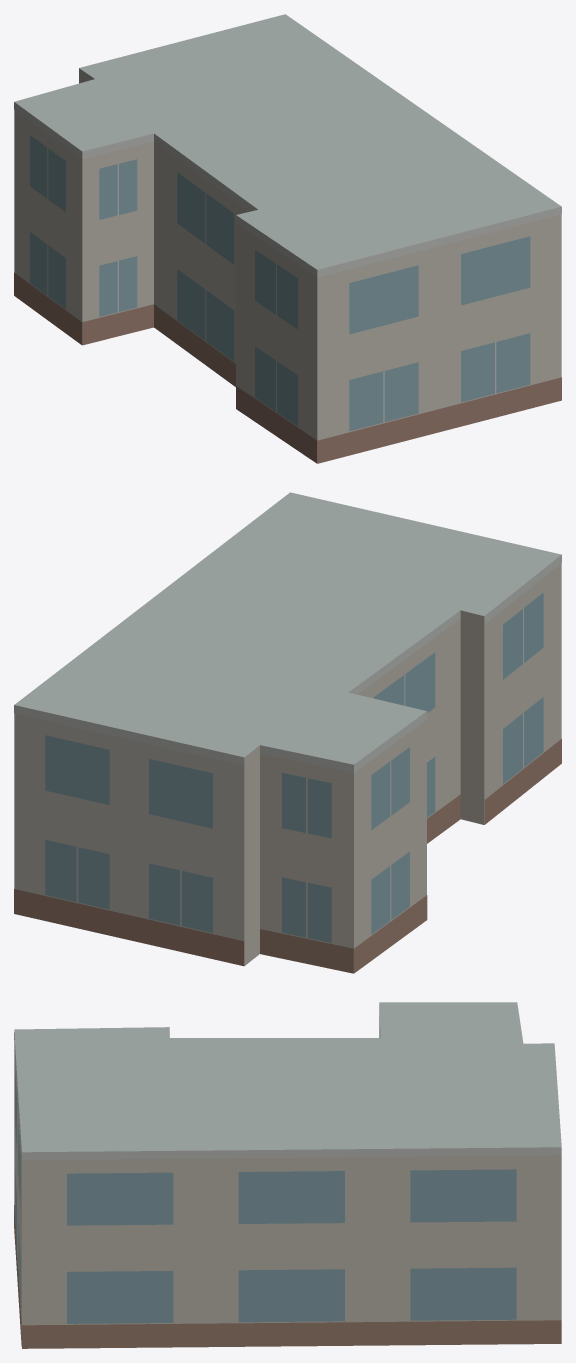
The model's file is survey-upis-32714874.glb.
3 renders of one model, top to bottom at view 1: azimuth 30°, elevation 25°; view 2: azimuth 150°, elevation 25°; view 3: azimuth 270°, elevation 25°, orthographic. The views are drawn at different scales.
Visible parts, largest first — view 1: survey-upis-32714874.tmp; view 2: survey-upis-32714874.tmp; view 3: survey-upis-32714874.tmp.
Boxes of the visible parts, x1,y1,x2,y2 form: survey-upis-32714874.tmp: [14, 14, 561, 463]; survey-upis-32714874.tmp: [14, 492, 561, 973]; survey-upis-32714874.tmp: [14, 1002, 561, 1348].
Size of the model in its own units: 10 by 6.1 by 15.42.
